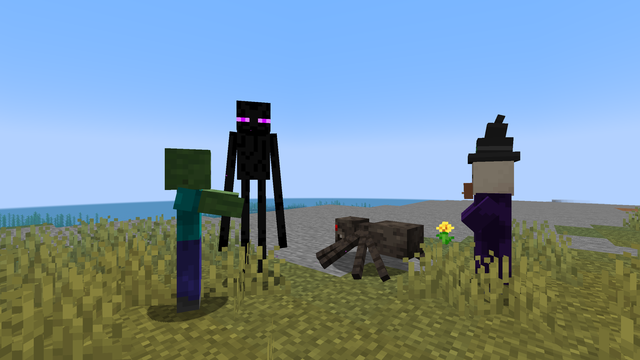araignees: (319, 210, 417, 281)
endermens: (226, 92, 279, 291)
sorcieres: (463, 154, 517, 303)
zombies: (156, 151, 222, 319)
